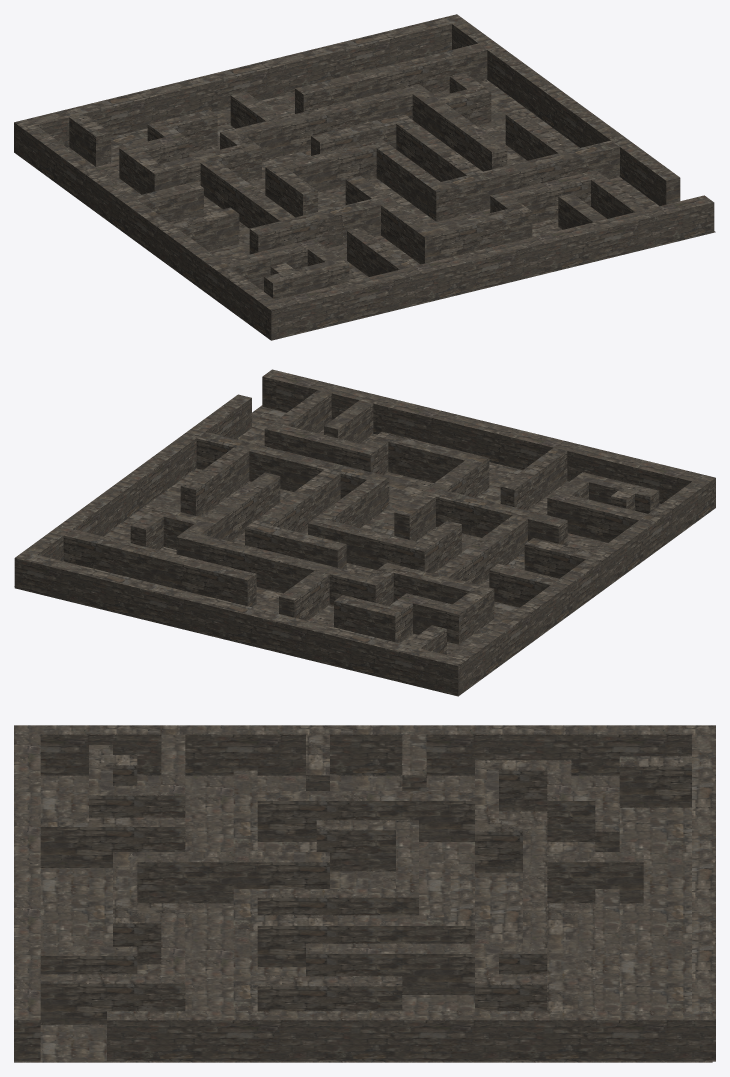
The model's file is Maze..fbx.
The picture shows the model from 3 angles, top to bottom: view 1: azimuth 30°, elevation 25°; view 2: azimuth 150°, elevation 25°; view 3: azimuth 270°, elevation 25°; orthographic projection. The views are drawn at different scales.
Parts seen in each view (by area): view 1: Cube, Sprite; view 2: Cube, Sprite; view 3: Cube, Sprite.
Boxes of the visible parts, left/top/right/bottom form: Cube: left=14, top=14, right=714, bottom=340; Sprite: left=68, top=80, right=715, bottom=291; Cube: left=14, top=369, right=715, bottom=696; Sprite: left=14, top=405, right=660, bottom=656; Cube: left=14, top=725, right=715, bottom=1061; Sprite: left=14, top=775, right=712, bottom=1062.
Bounding box in the file's own units: 25423 × 1689 × 25471.
